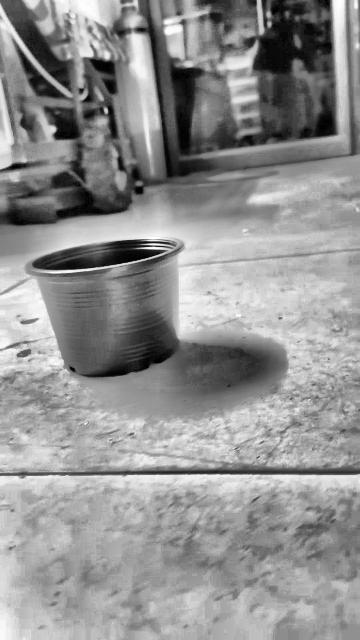pot: (26, 239, 184, 376)
